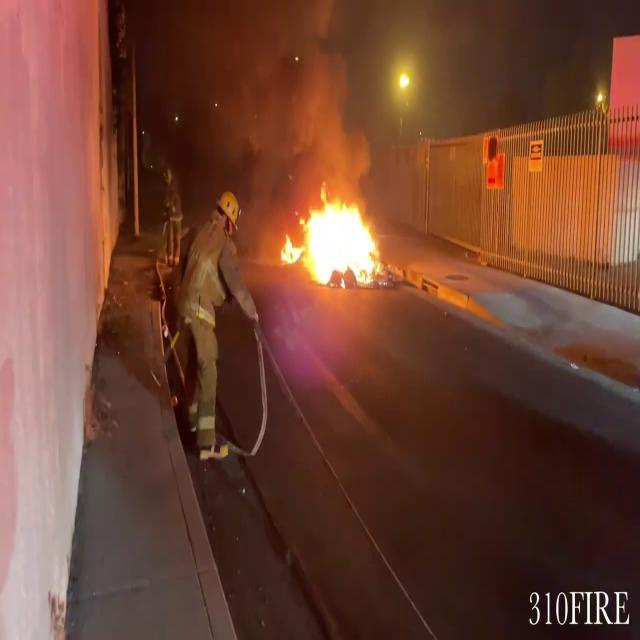Fire: (278, 187, 388, 290)
Smoke: (192, 0, 372, 205)
